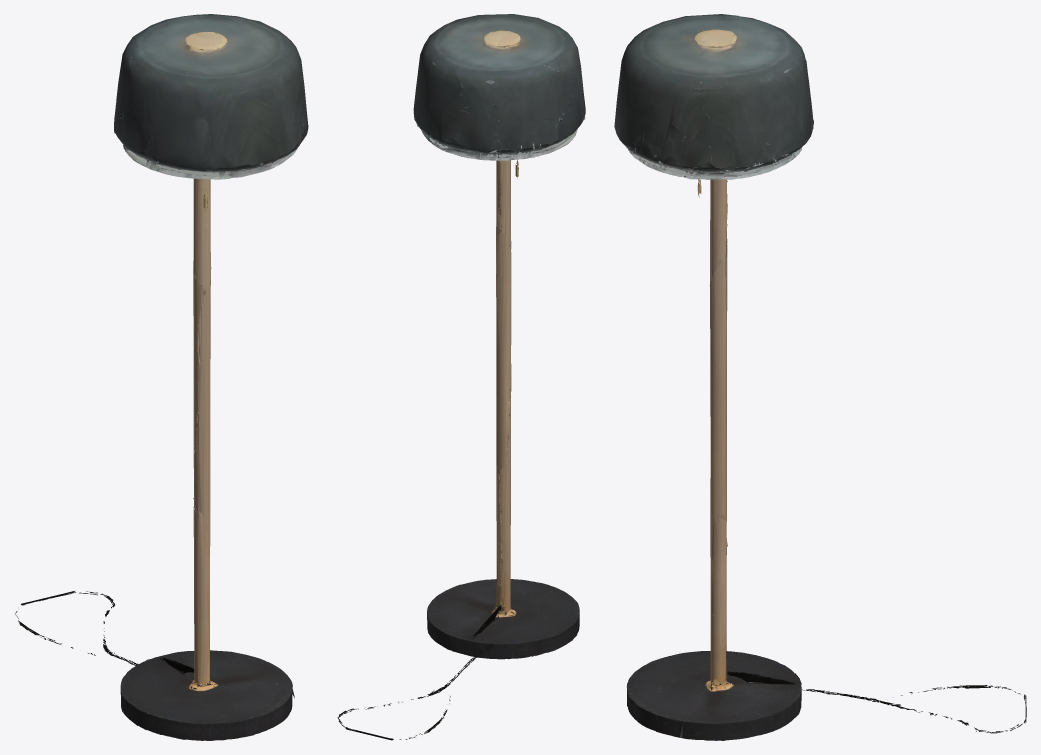
File: ikea-evedal-floor-lamp-marble-gray-60357916.glb
3 views of the same model, side by side, from view 1: azimuth 30°, elevation 25°; view 2: azimuth 150°, elevation 25°; view 3: azimuth 270°, elevation 25° (orthographic). The views are drawn at different scales.
Parts seen in each view (by area): view 1: model; view 2: model; view 3: model.
Part boxes in pixels (x1,y1,x2,y2): model: [15, 14, 308, 740]; model: [337, 14, 585, 740]; model: [614, 14, 1026, 740].
Bounding box in the file's own units: 0.4846 × 1.86 × 1.02.
1 material, 1 textured.
